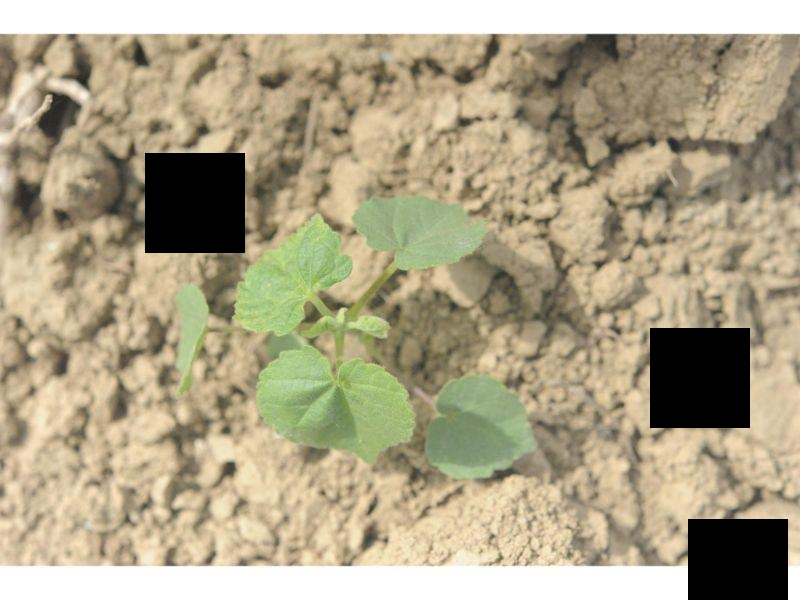velvet: (177, 192, 538, 482)
